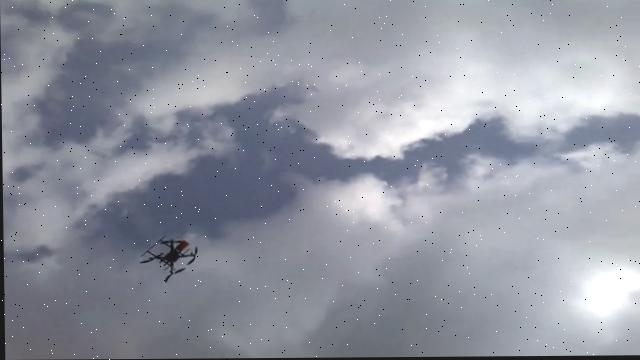drone: (137, 235, 201, 287)
